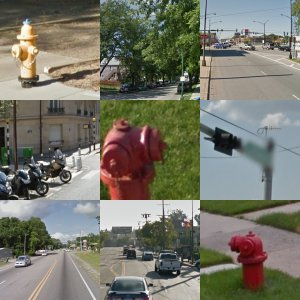公車: (208, 37, 234, 69)
棕櫚樹: (206, 98, 250, 196), (246, 103, 286, 188)
汽車: (99, 123, 144, 189), (23, 134, 74, 187), (22, 45, 37, 58)
紅綠燈: (264, 199, 300, 284)
腳踏車: (102, 238, 164, 292), (137, 24, 158, 65), (26, 216, 61, 240)
行人穿越道: (271, 75, 300, 100)
